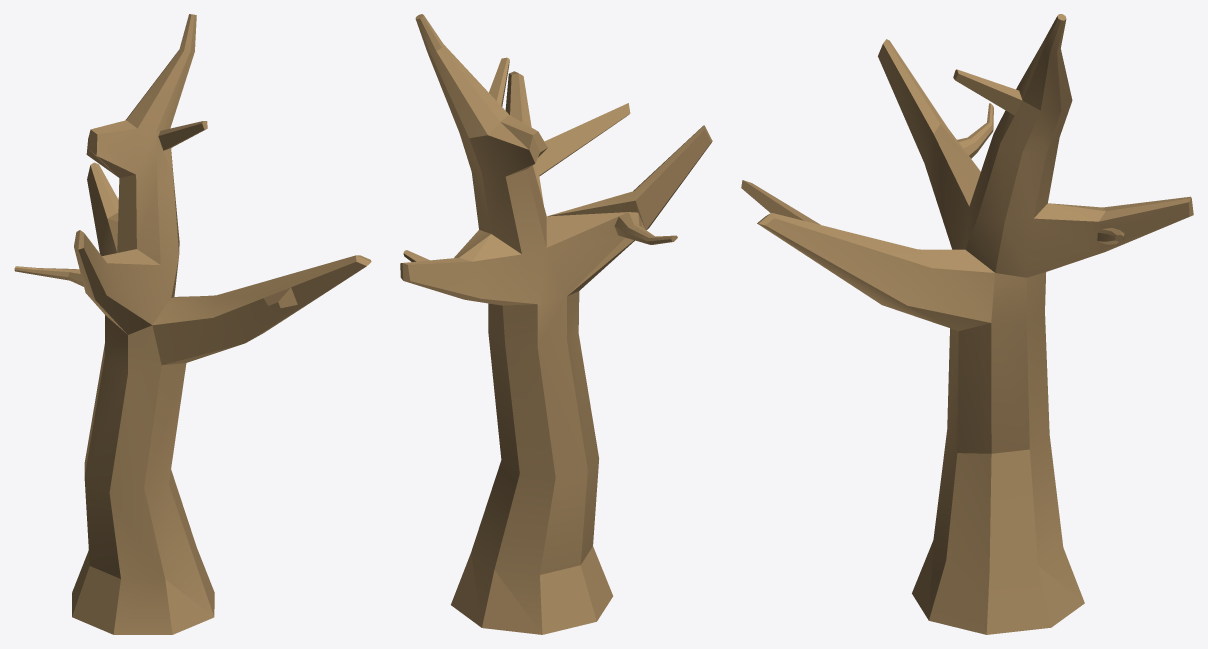
Rendered from Tree_Dead.fbx.
3 renders of one model, left to right at view 1: azimuth 30°, elevation 25°; view 2: azimuth 150°, elevation 25°; view 3: azimuth 270°, elevation 25°, orthographic. The views are drawn at different scales.
Visible parts, largest first — view 1: Tree_dead; view 2: Tree_dead; view 3: Tree_dead.
Boxes of the visible parts, box(x1,y1,x2,y2) form: Tree_dead: box(14, 14, 371, 634); Tree_dead: box(400, 14, 712, 634); Tree_dead: box(741, 14, 1193, 634).
Size of the model in its own units: 5.96 by 12.19 by 7.99.
